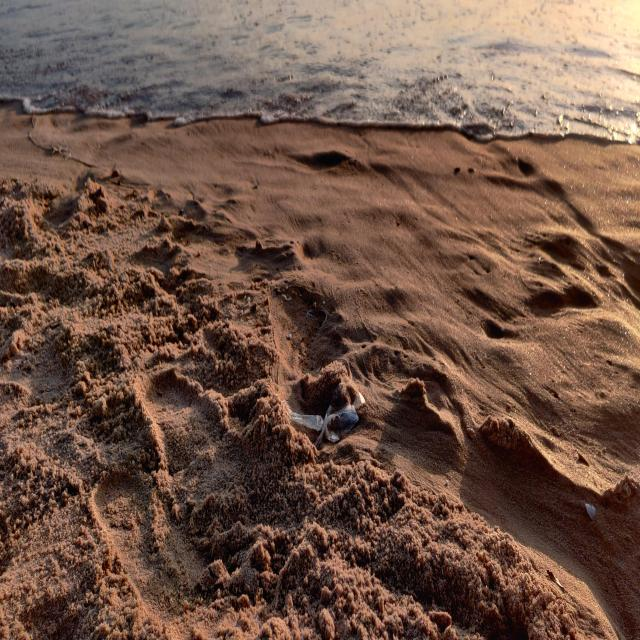litter: (286, 388, 365, 447)
